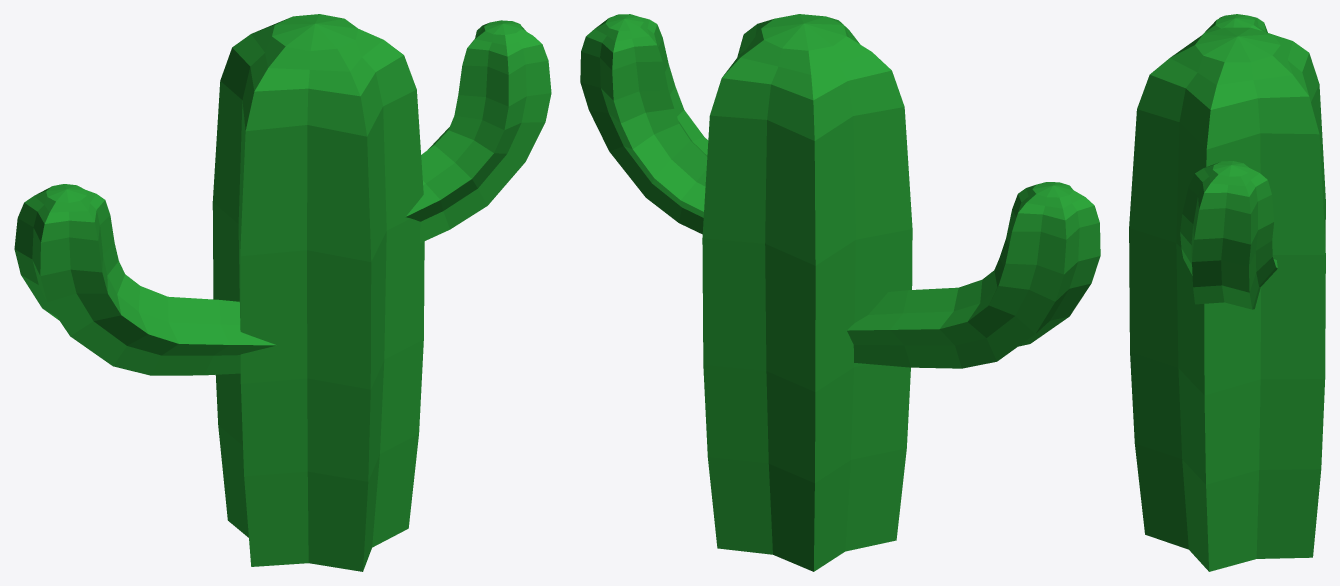
The model's file is cactus.fbx.
The picture shows the model from 3 angles, left to right: view 1: azimuth 30°, elevation 25°; view 2: azimuth 150°, elevation 25°; view 3: azimuth 270°, elevation 25°; orthographic projection. The views are drawn at different scales.
Parts seen in each view (by area): view 1: cactus; view 2: cactus; view 3: cactus.
Part boxes in pixels (x1=…): cactus: x1=14, y1=14, x2=551, y2=571; cactus: x1=580, y1=14, x2=1100, y2=571; cactus: x1=1129, y1=14, x2=1325, y2=571.
Bounding box in the file's own units: 101 × 97.71 × 34.99.
